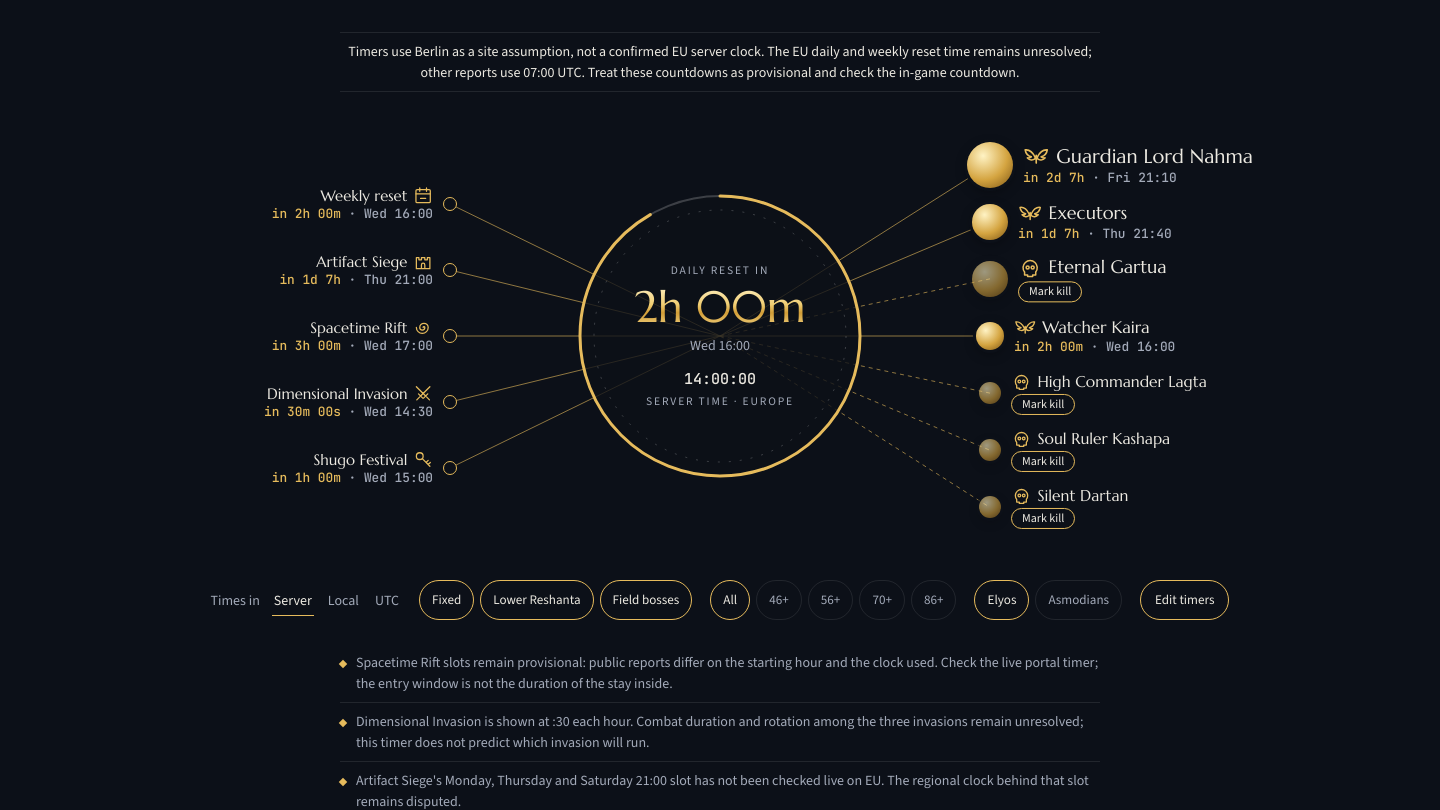
Test: group chips hide and show a whole group
Click the button "Field bosses" at (646, 600), box x1=600 y1=580 x2=692 y2=620
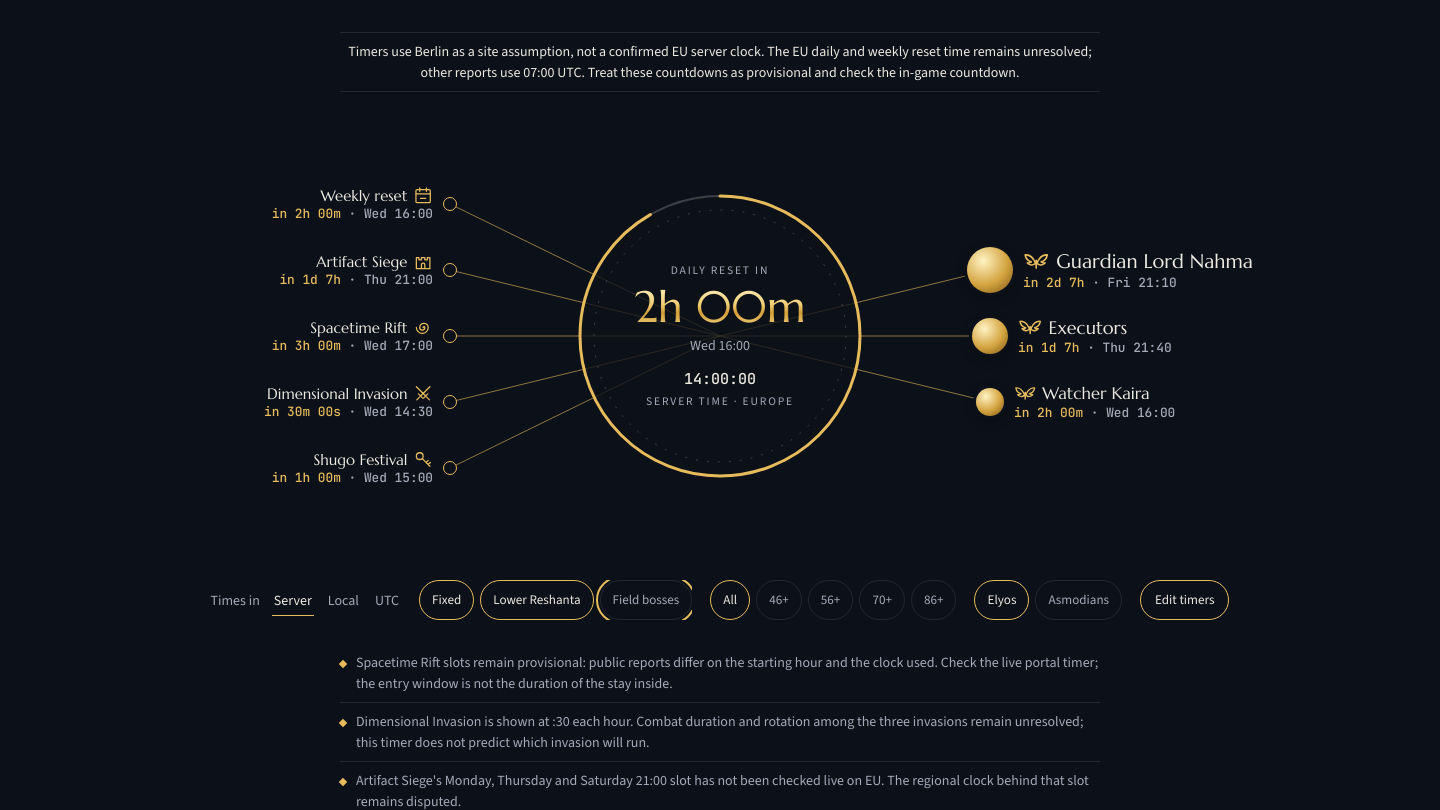
Expected: the text "Silent Dartan" is gone
